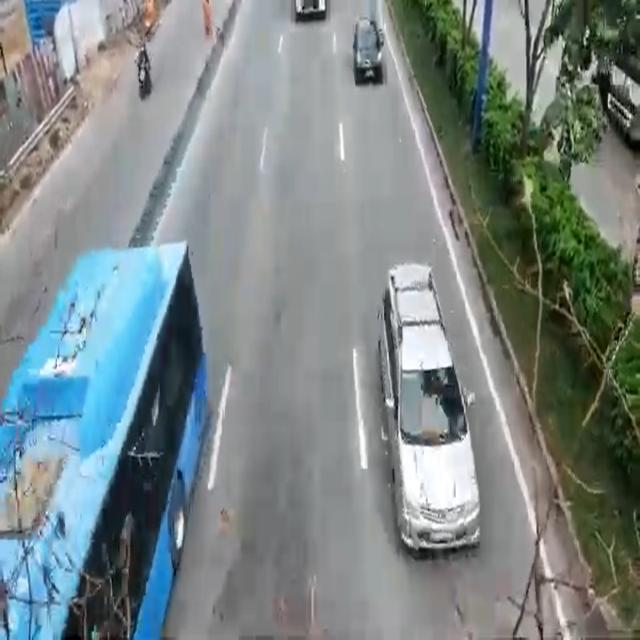bus: (18, 243, 187, 640)
car: (376, 267, 486, 554), (352, 20, 382, 86)
motor: (137, 64, 151, 96)
